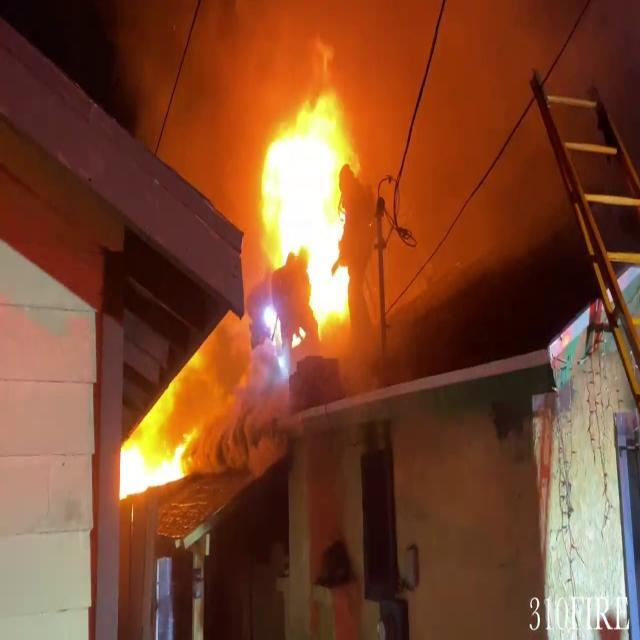Fire: (258, 83, 362, 338), (112, 397, 194, 507)
